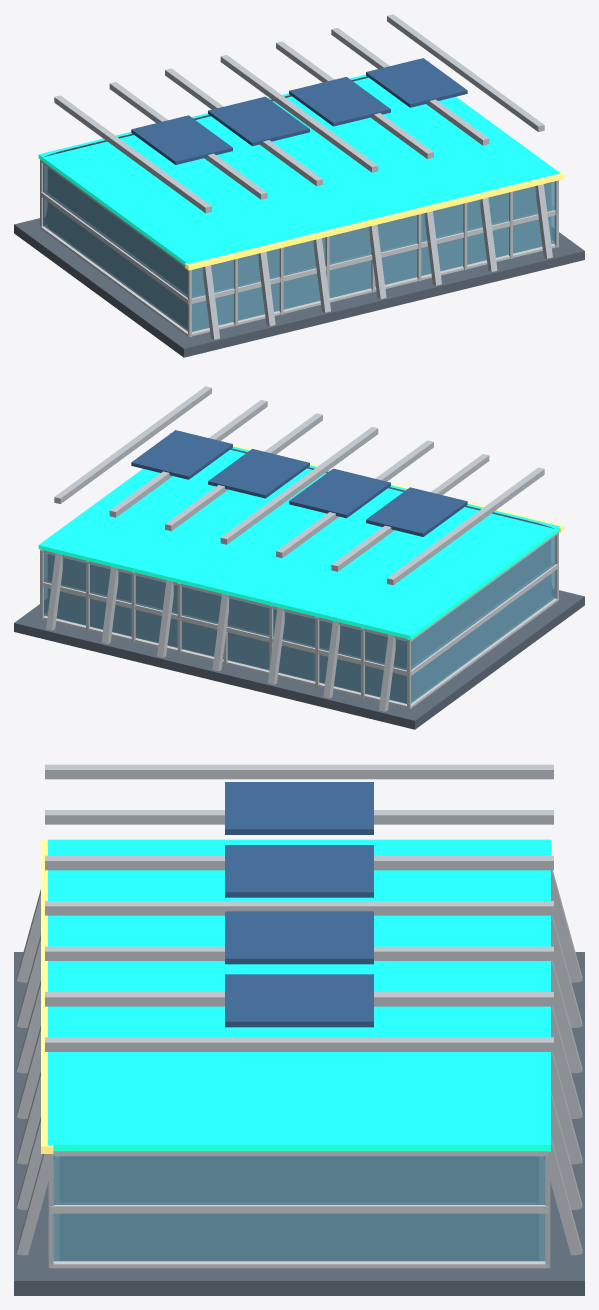
The model's file is indoor_training_arena.glb.
3 views of the same model, one above another, from view 1: azimuth 30°, elevation 25°; view 2: azimuth 150°, elevation 25°; view 3: azimuth 270°, elevation 25° (orthographic). The views are drawn at different scales.
Visible parts, largest first — view 1: indoor_training_arena; view 2: indoor_training_arena; view 3: indoor_training_arena.
Boxes of the visible parts, x1,y1,x2,y2 form: indoor_training_arena: (14,14,584,357); indoor_training_arena: (14,386,584,729); indoor_training_arena: (14,764,584,1295).
Bounding box in the file's own units: 3.76 × 1.23 × 2.76.
